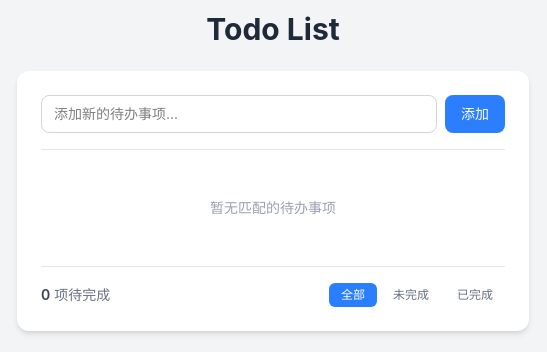
Scenario: TodoApp Integration › should add a todo and update the counter
In the field: [239, 114] box x1=41 y1=95 x2=437 y2=133, type "买牛奶"
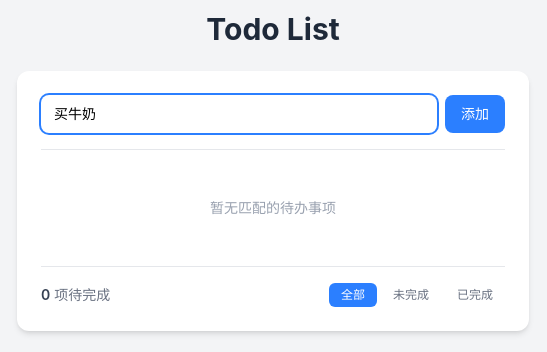
Click the button "添加": [475, 114] box x1=445 y1=95 x2=505 y2=133
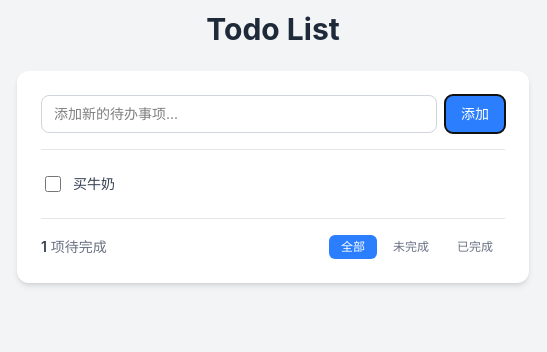
expect the text "买牛奶" is shown: met, box x1=73 y1=175 x2=115 y2=192
expect the text "1" is shown: met, box x1=41 y1=238 x2=47 y2=255
expect the field is empty: met, box x1=41 y1=95 x2=437 y2=133
